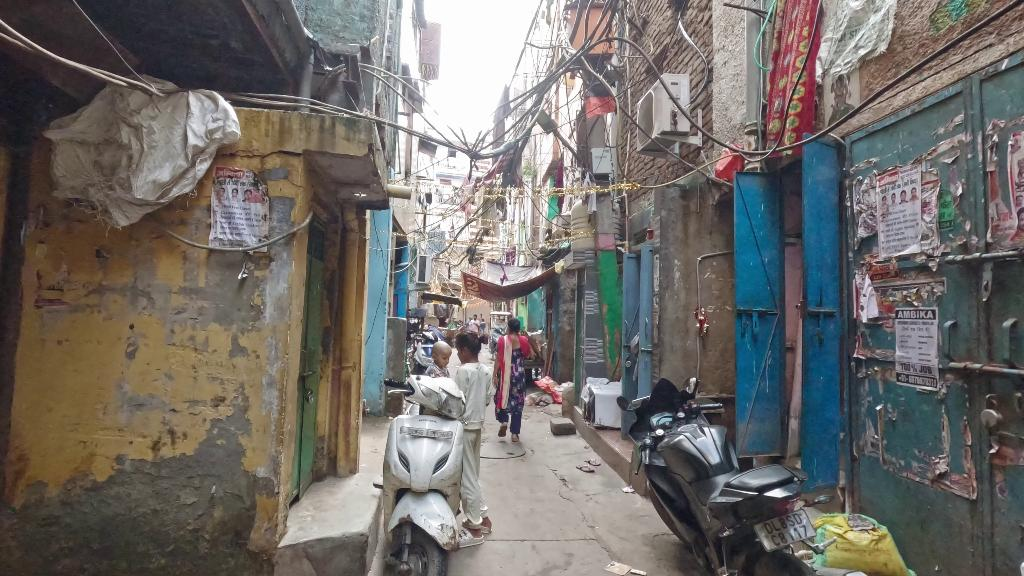garbage: (601, 553, 644, 573)
